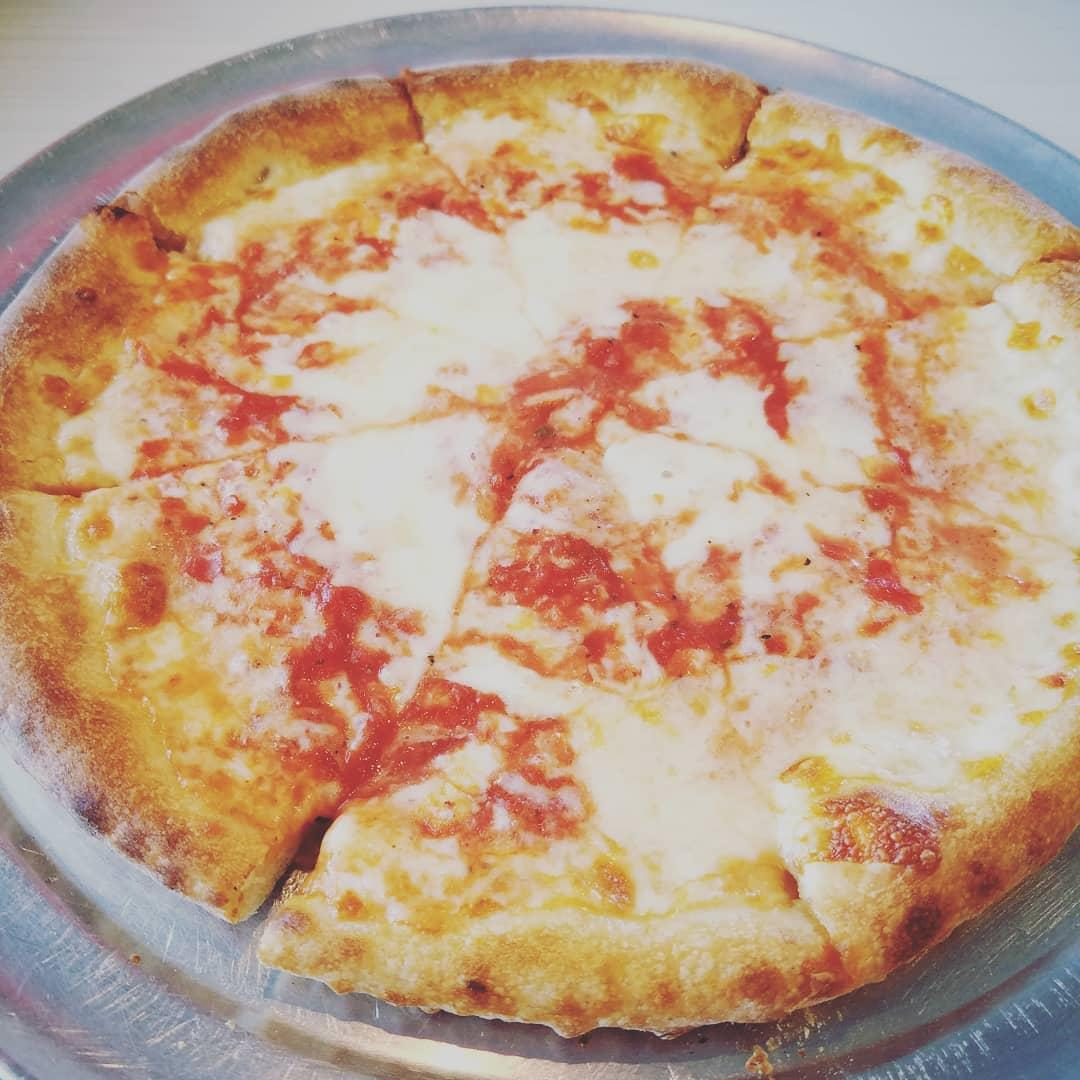Pizza: (0, 45, 1080, 1033)
